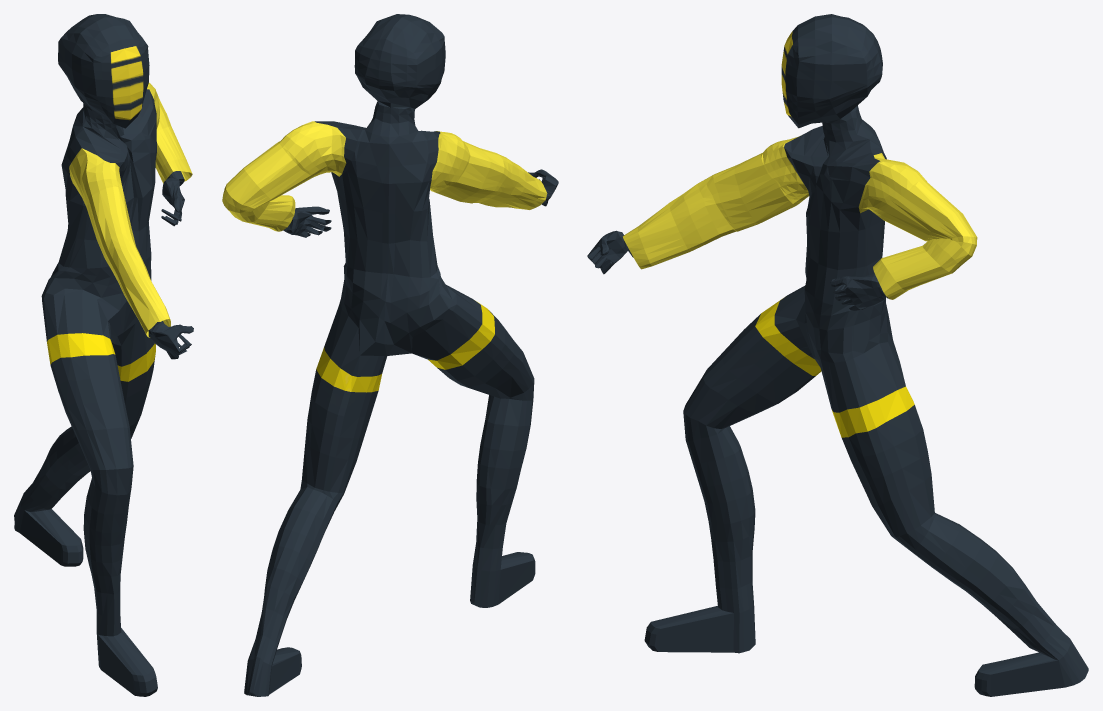
Rendered from Sentry_Hit_Stun_Recover_000009.obj.
3 views of the same model, side by side, from view 1: azimuth 30°, elevation 25°; view 2: azimuth 150°, elevation 25°; view 3: azimuth 270°, elevation 25° (orthographic). The views are drawn at different scales.
Parts seen in each view (by area): view 1: Cube; view 2: Cube; view 3: Cube.
Boxes of the visible parts, left/top/right/bottom form: Cube: left=14, top=14, right=193, bottom=696; Cube: left=222, top=14, right=558, bottom=696; Cube: left=587, top=14, right=1088, bottom=696.
Bounding box in the file's own units: 1.19 × 3.61 × 2.51.
